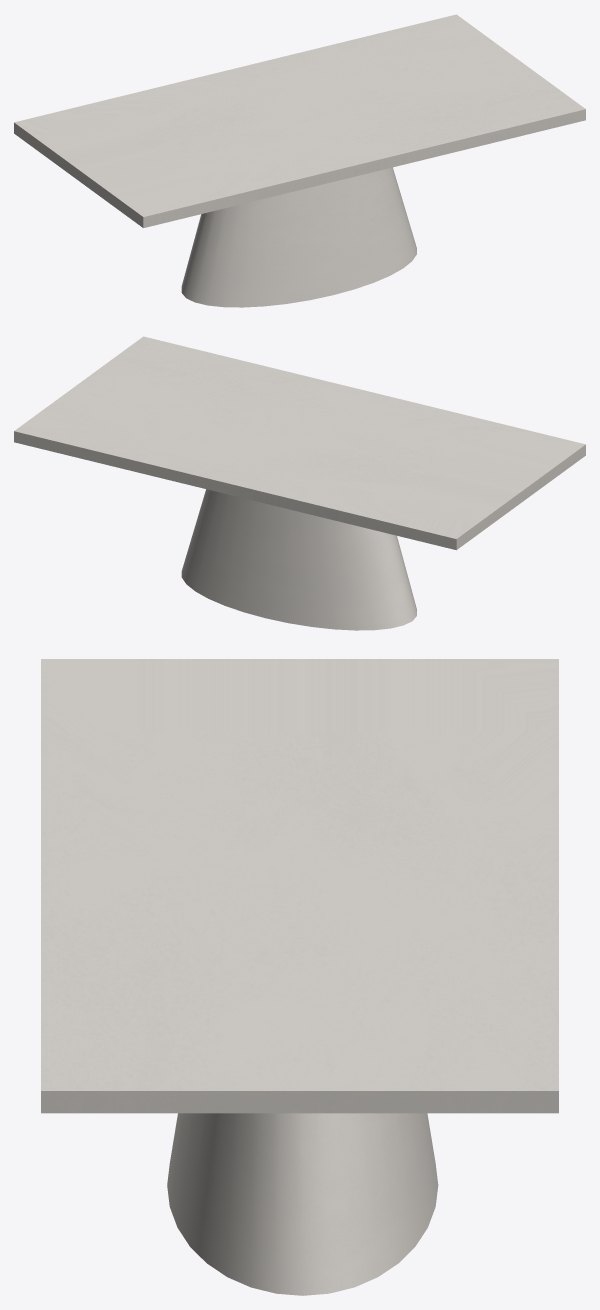
The model's file is pearlwhite_recta_standard_eqone.glb.
The picture shows the model from 3 angles, top to bottom: view 1: azimuth 30°, elevation 25°; view 2: azimuth 150°, elevation 25°; view 3: azimuth 270°, elevation 25°; orthographic projection. The views are drawn at different scales.
Visible parts, largest first — view 1: pearlwhite_rectastandard_eqone; view 2: pearlwhite_rectastandard_eqone; view 3: pearlwhite_rectastandard_eqone.
Boxes of the visible parts, x1=… form: pearlwhite_rectastandard_eqone: x1=14, y1=14, x2=585, y2=307; pearlwhite_rectastandard_eqone: x1=14, y1=336, x2=585, y2=630; pearlwhite_rectastandard_eqone: x1=41, y1=659, x2=558, y2=1295.
Bounding box in the file's own units: 7.5 × 2.51 × 3.8.
Materials: 1 (1 with a texture image).
